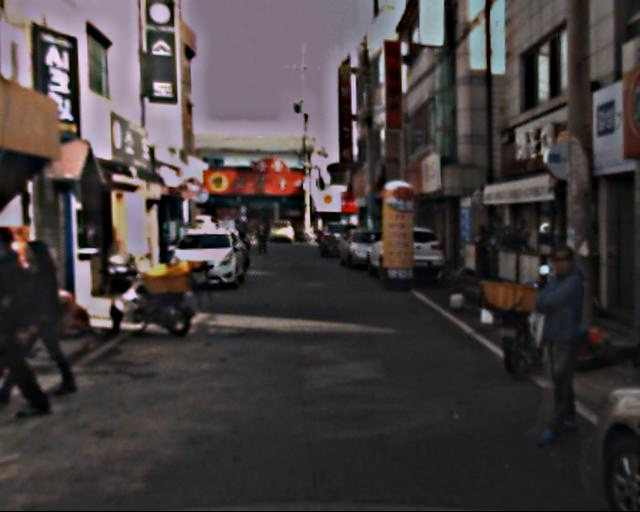person: (514, 242, 602, 445), (6, 237, 91, 400), (254, 216, 272, 260)
